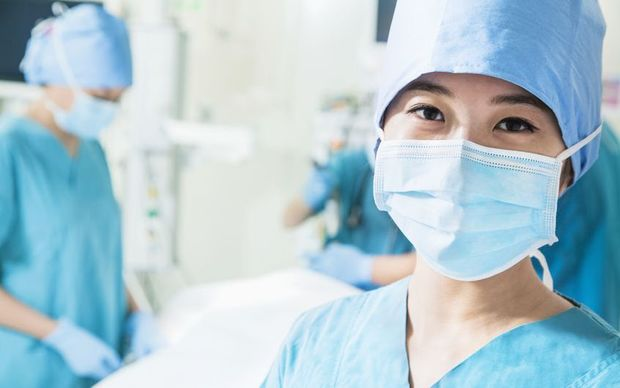surgical: (369, 126, 565, 285), (43, 86, 122, 142)
